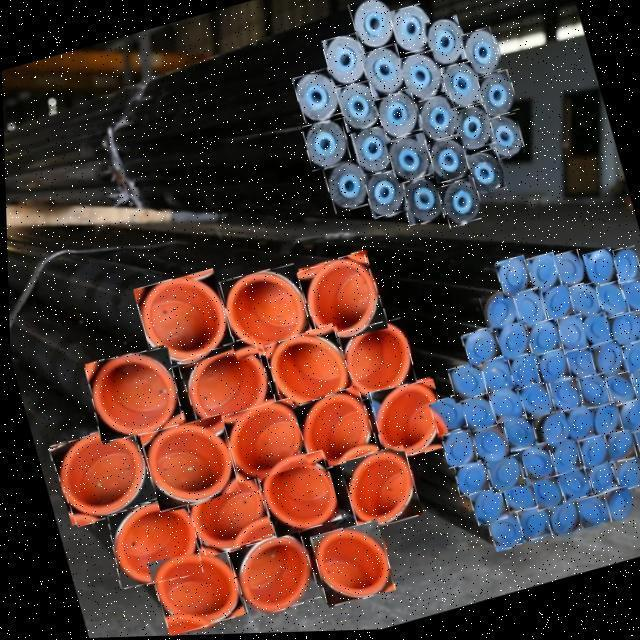pipe: (46, 420, 153, 527), (132, 270, 232, 372), (175, 337, 275, 437), (137, 415, 237, 512), (83, 348, 181, 443), (218, 265, 311, 361), (145, 543, 241, 636), (295, 252, 386, 349), (260, 325, 353, 419), (103, 497, 198, 589), (178, 466, 271, 558), (225, 530, 317, 620), (252, 451, 338, 539), (218, 398, 305, 484), (290, 387, 376, 473), (307, 522, 391, 608), (337, 447, 419, 534), (336, 320, 415, 403), (367, 381, 444, 462), (321, 160, 372, 215), (291, 69, 341, 125), (334, 81, 384, 134), (373, 90, 423, 143), (348, 0, 397, 53), (301, 120, 350, 172), (359, 46, 407, 99), (322, 35, 369, 89), (435, 179, 484, 230), (385, 135, 433, 186), (350, 126, 396, 178), (472, 72, 518, 122), (414, 96, 460, 146), (390, 6, 435, 57), (423, 18, 468, 69), (459, 29, 503, 81), (399, 53, 444, 102), (450, 105, 495, 154), (462, 150, 505, 199), (399, 178, 442, 227), (364, 172, 407, 220), (427, 138, 469, 185), (484, 115, 524, 163), (440, 64, 480, 111), (458, 328, 500, 371), (492, 258, 532, 301), (477, 292, 517, 335), (445, 365, 485, 406), (483, 512, 522, 554), (465, 488, 504, 528), (426, 397, 465, 437), (470, 426, 508, 467), (581, 250, 617, 292), (484, 457, 522, 496), (523, 321, 559, 362), (517, 445, 553, 486), (524, 255, 560, 295), (458, 395, 494, 435), (478, 359, 513, 400), (534, 414, 571, 452), (538, 287, 573, 327), (494, 325, 529, 364), (439, 432, 474, 470), (516, 384, 551, 422), (551, 252, 584, 292), (511, 290, 544, 330), (450, 463, 486, 499), (554, 469, 590, 505), (589, 342, 623, 380), (486, 389, 520, 427), (501, 417, 535, 454), (513, 509, 548, 544), (545, 503, 579, 539), (568, 285, 600, 323), (594, 283, 626, 321), (555, 317, 586, 356), (573, 496, 607, 531), (500, 481, 534, 516), (574, 437, 608, 472), (535, 351, 568, 387), (506, 356, 538, 393), (600, 489, 632, 525), (610, 249, 640, 287), (529, 477, 561, 512), (547, 381, 579, 416), (579, 316, 610, 352), (562, 408, 592, 445), (606, 315, 638, 349), (583, 463, 615, 497), (603, 374, 634, 409), (547, 443, 578, 478), (576, 377, 607, 412), (588, 406, 619, 439), (602, 434, 633, 466), (611, 461, 640, 494), (564, 350, 593, 383), (613, 402, 640, 436), (619, 281, 640, 316), (618, 344, 640, 376), (630, 373, 640, 404), (630, 316, 640, 346), (632, 435, 640, 463)
